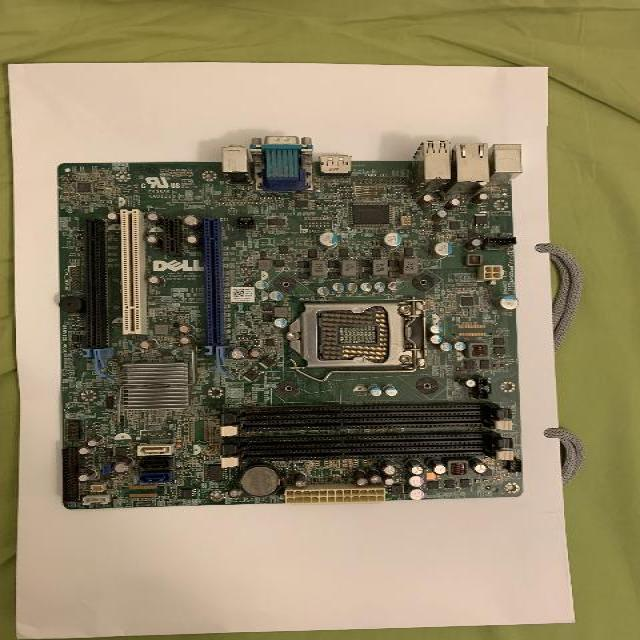Mainboard: (55, 136, 525, 509)
